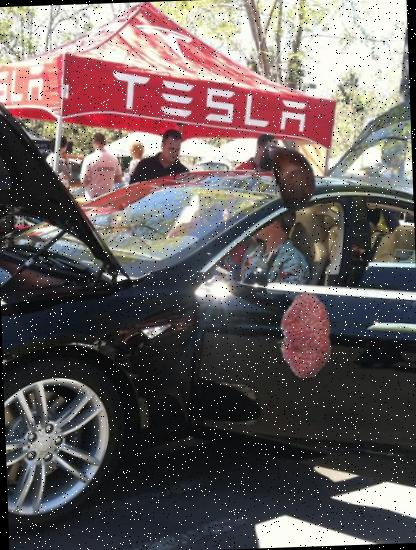Chestnut: (260, 143, 328, 211)
Strawberry: (260, 290, 348, 379)
